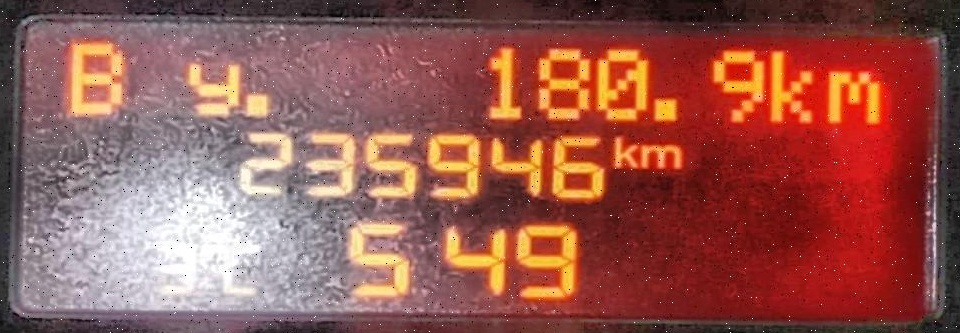-: (649, 95, 680, 124), (240, 93, 272, 120)
0: (593, 46, 648, 123)
1: (482, 45, 525, 122)
2: (235, 128, 296, 197)
3: (296, 130, 359, 199), (151, 238, 201, 298)
4: (441, 222, 510, 297), (485, 134, 546, 199)
5: (344, 222, 411, 297), (361, 129, 420, 199)
6: (547, 134, 606, 202)
8: (534, 44, 591, 123)
9: (512, 222, 580, 299), (708, 47, 768, 124), (423, 130, 482, 199)
X: (64, 40, 125, 116), (768, 47, 815, 125), (184, 60, 241, 119), (826, 68, 882, 127), (217, 240, 265, 297), (642, 142, 684, 172), (609, 134, 639, 170)
